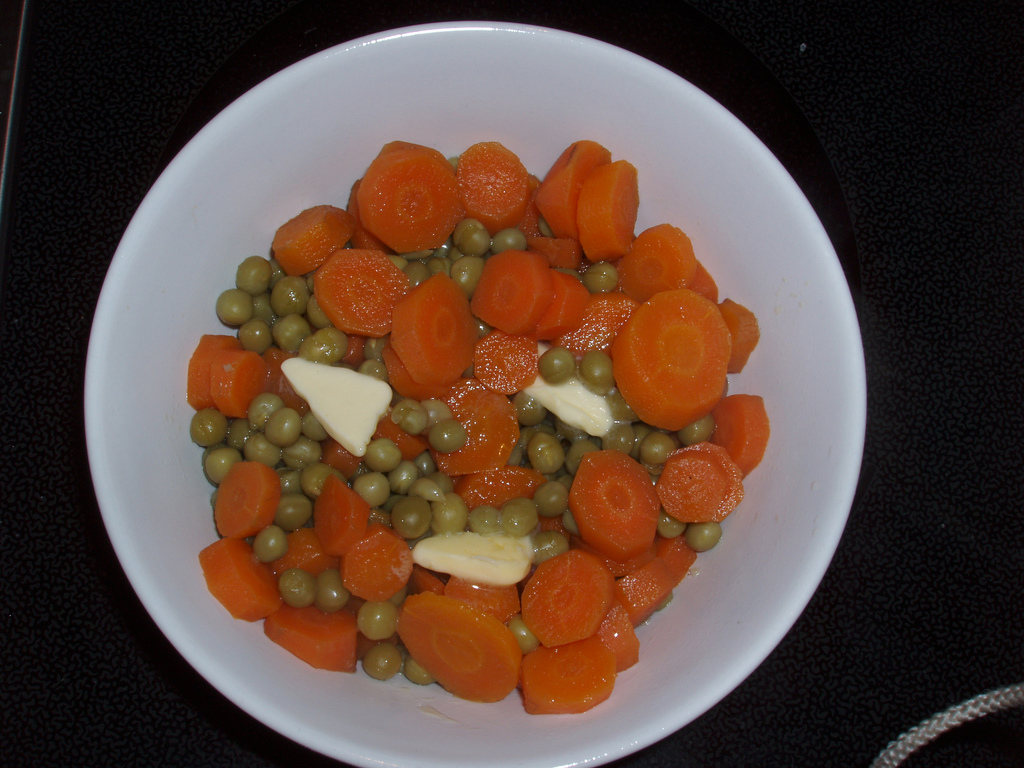boiled peas: (368, 455, 447, 530), (245, 414, 309, 466), (540, 350, 586, 391), (578, 353, 617, 379)
